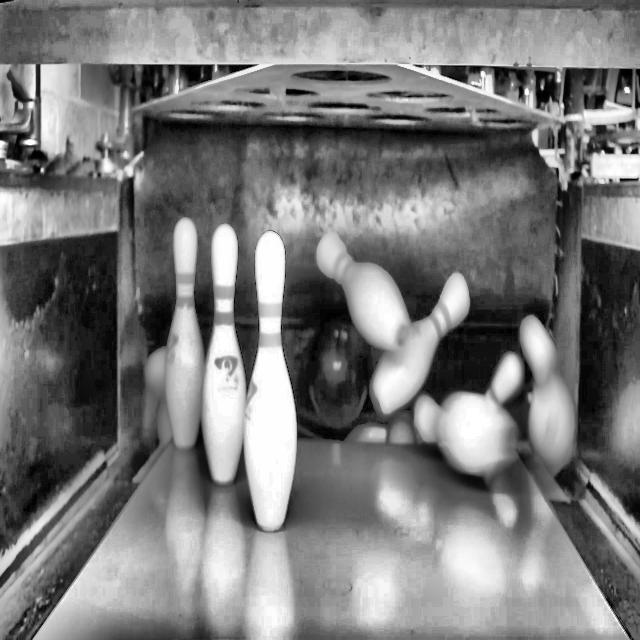bowling-pins: (244, 231, 297, 531), (201, 223, 246, 485), (165, 218, 204, 449)
